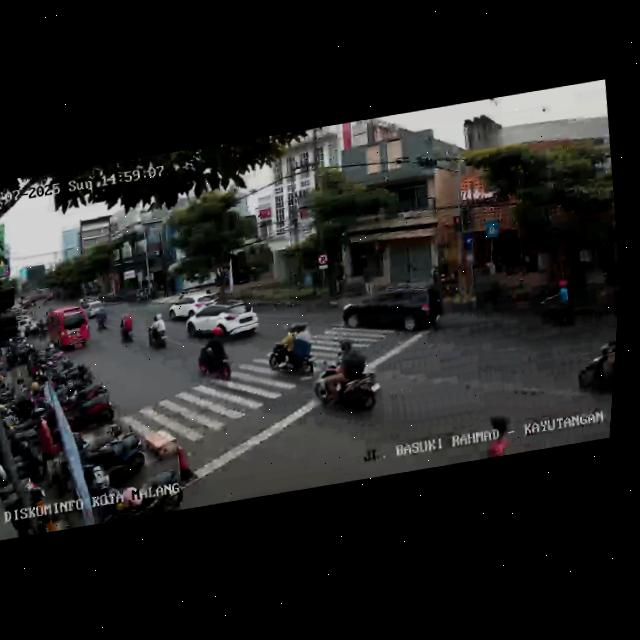car: (337, 276, 447, 347), (182, 295, 263, 349), (41, 302, 94, 357), (85, 299, 113, 330)
motorcycle: (309, 337, 388, 423), (567, 329, 617, 410), (265, 320, 323, 384), (529, 276, 588, 338), (190, 331, 236, 389), (143, 311, 173, 356), (115, 310, 140, 349), (95, 306, 111, 331)
